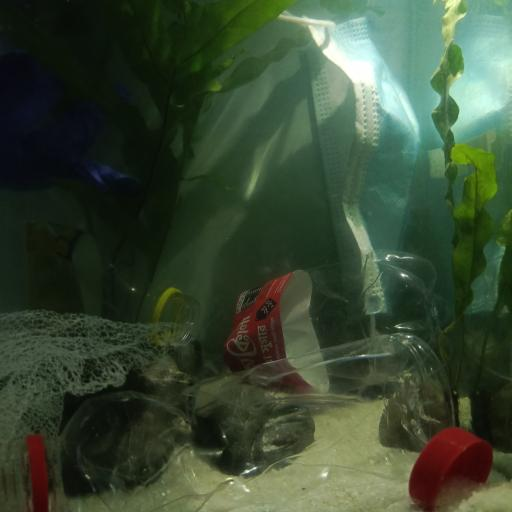bottle_cap: (408, 426, 494, 511)
glove: (0, 50, 142, 196)
mask: (278, 14, 420, 320)
plastic_bottle: (3, 334, 457, 512), (205, 248, 450, 391), (0, 218, 200, 348)
